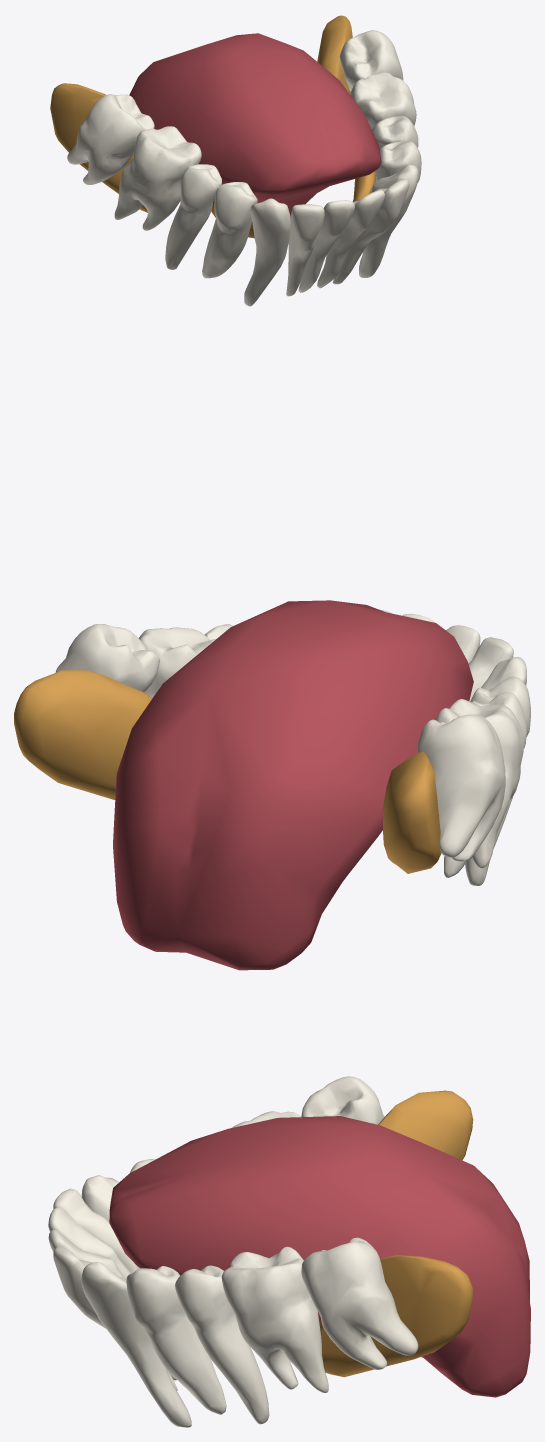
Rendered from ogiz.glb.
3 renders of one model, top to bottom at view 1: azimuth 30°, elevation 25°; view 2: azimuth 150°, elevation 25°; view 3: azimuth 270°, elevation 25°, orthographic. The views are drawn at different scales.
Parts seen in each view (by area): view 1: ogiz; view 2: ogiz; view 3: ogiz.
Part boxes in pixels (<box>): ogiz: <box>50,15,421,306</box>; ogiz: <box>14,600,530,970</box>; ogiz: <box>48,1076,530,1427</box>.
Bounding box in the file's own units: 0.0656 × 0.0574 × 0.0729.
